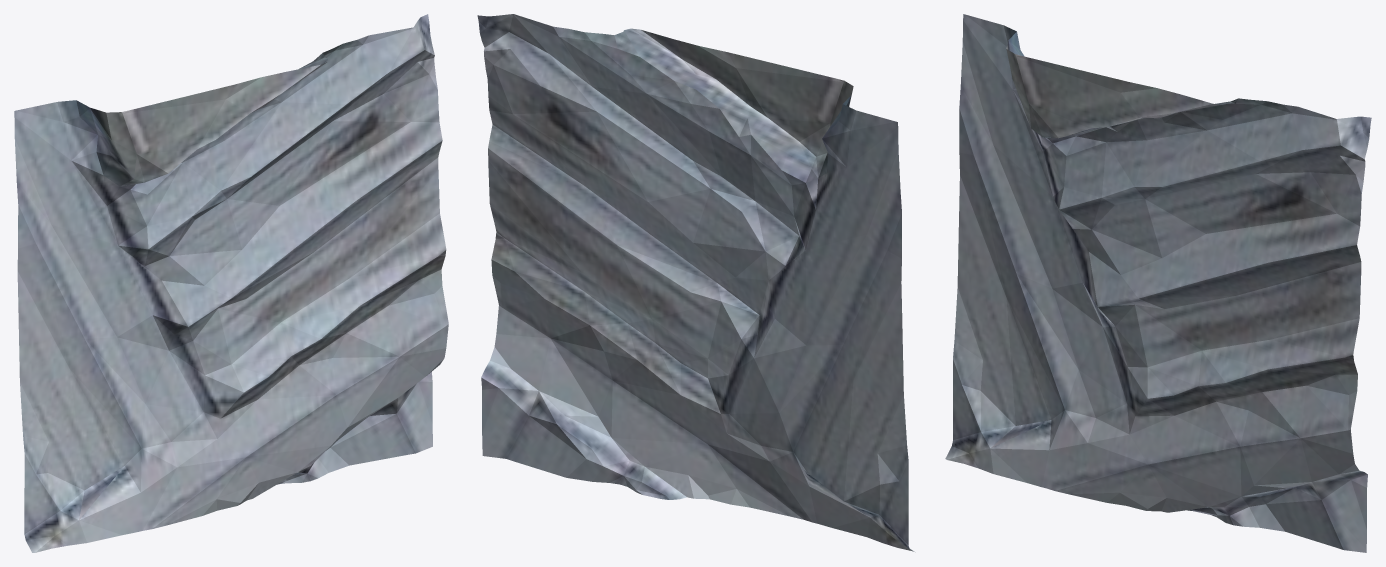
File: Tile_+001_+007_L23_003301.obj
The picture shows the model from 3 angles, left to right: view 1: azimuth 30°, elevation 25°; view 2: azimuth 150°, elevation 25°; view 3: azimuth 330°, elevation 25°; orthographic projection. The views are drawn at different scales.
Size of the model in its own units: 1.91 by 1.91 by 0.2427.
